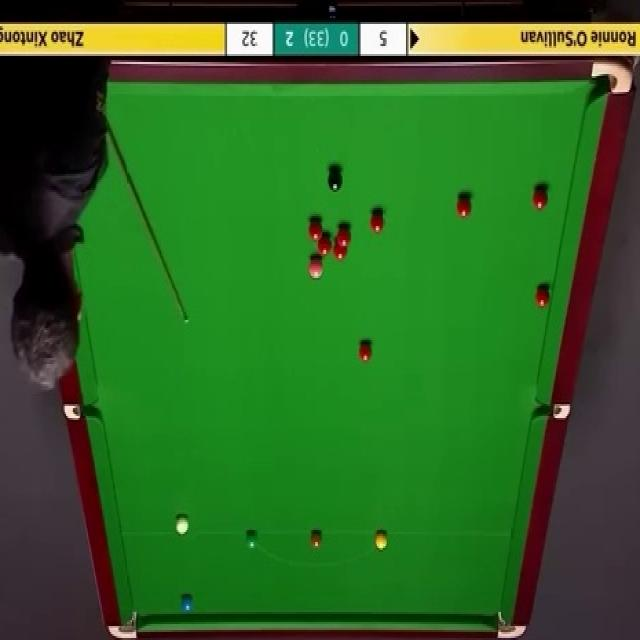black-ball: (326, 166, 343, 192)
blue-ball: (179, 593, 195, 618)
brown-ball: (309, 529, 323, 549)
green-ball: (244, 528, 258, 550)
pink-ball: (308, 255, 326, 279)
red-ball: (530, 189, 548, 217), (456, 195, 473, 219), (357, 340, 373, 364), (336, 224, 352, 247), (370, 209, 384, 235), (536, 285, 551, 309), (332, 240, 349, 261), (308, 220, 323, 242), (313, 238, 329, 258)
white-ball: (174, 514, 192, 538)
yellow-ball: (374, 530, 388, 550)
